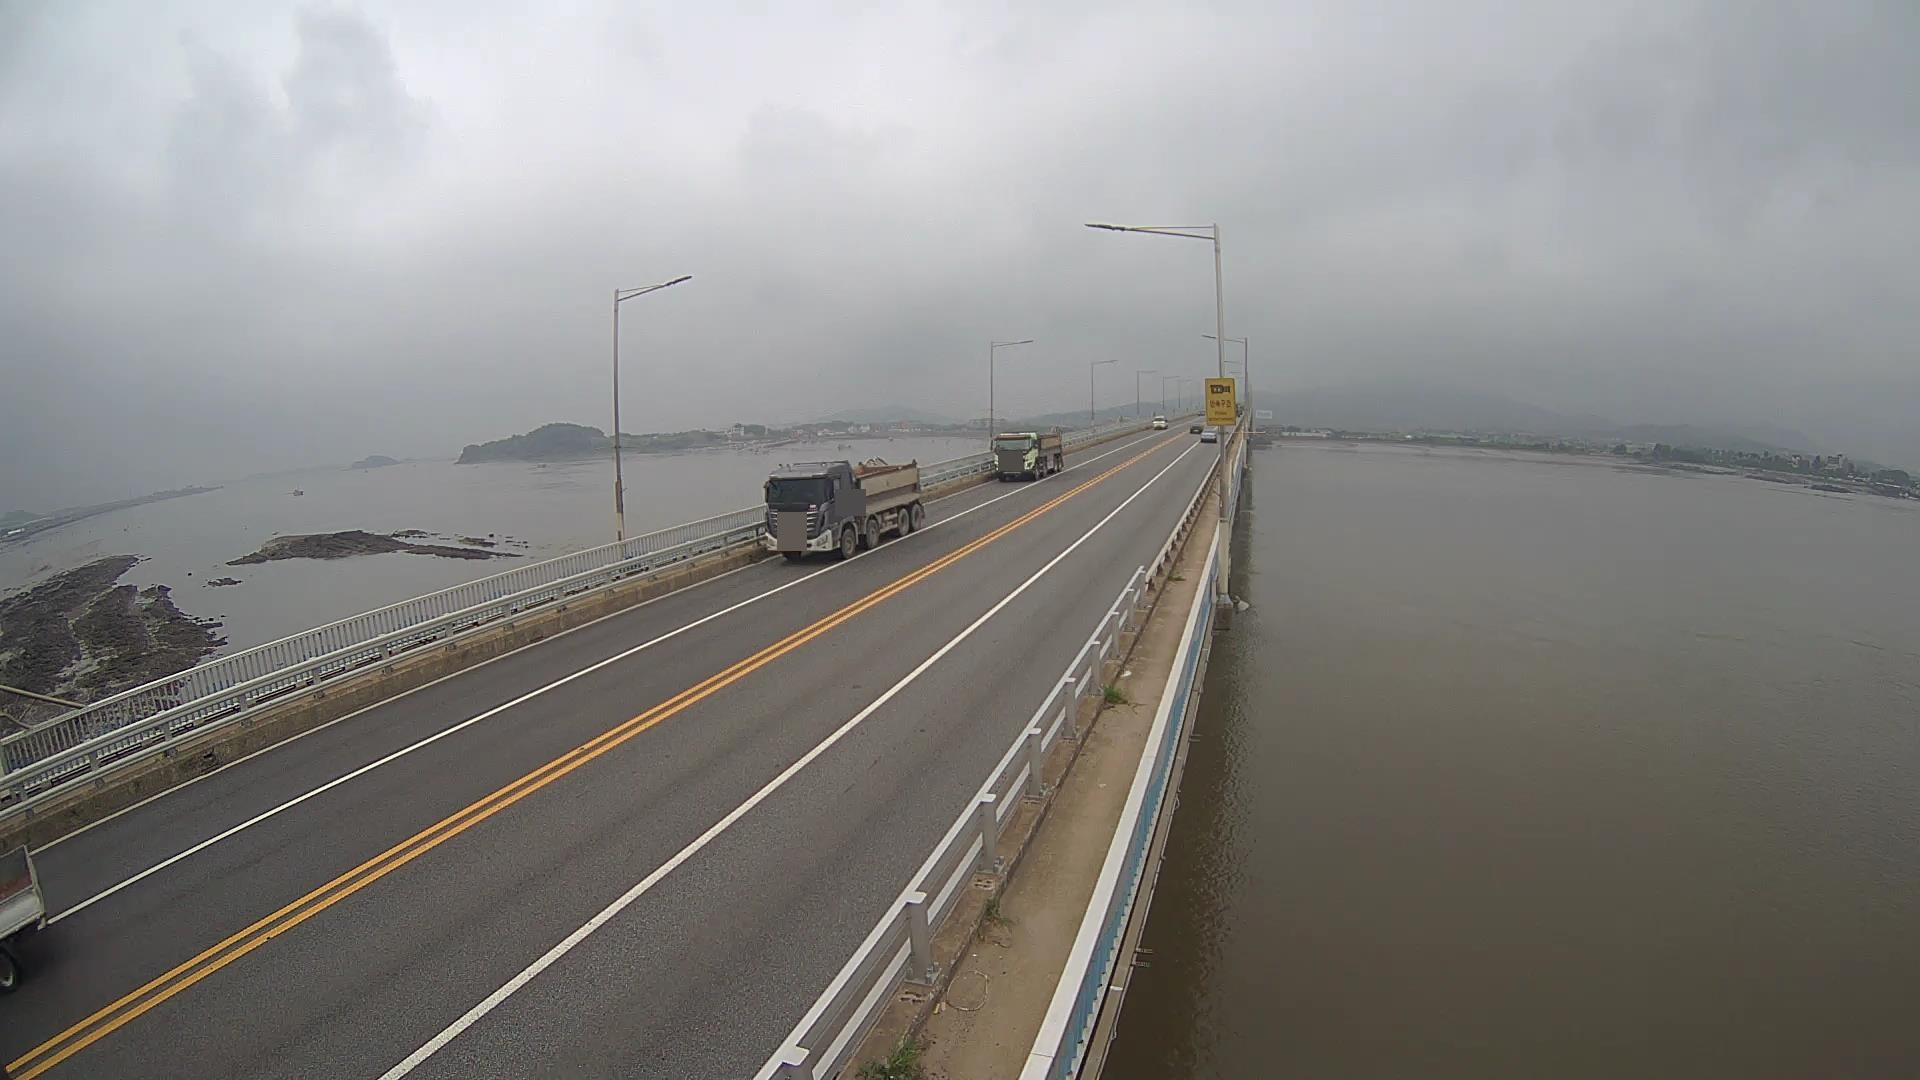정상차량: (763, 459, 926, 559)
